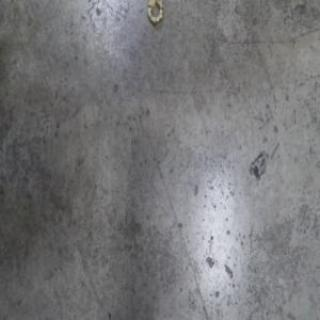Nuttrack_idkeyframe: (145, 0, 163, 29)
